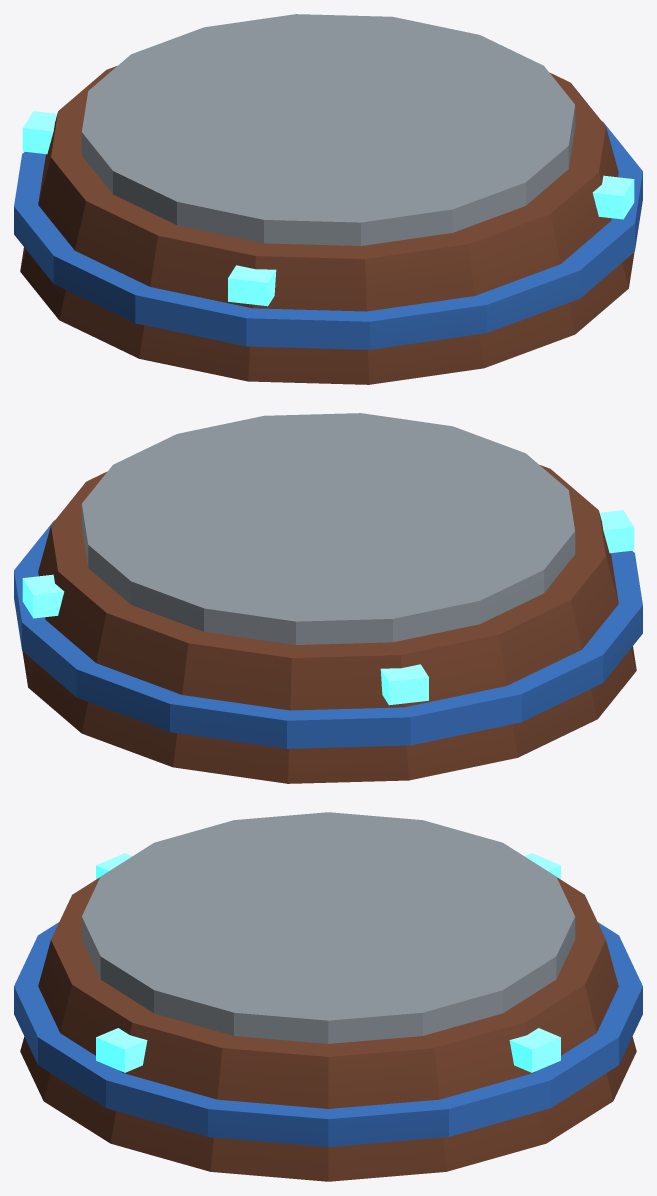
The model's file is zsupport_tourelle.glb.
3 views of the same model, one above another, from view 1: azimuth 30°, elevation 25°; view 2: azimuth 150°, elevation 25°; view 3: azimuth 270°, elevation 25° (orthographic).
Parts seen in each view (by area): view 1: zsupport_tourelle; view 2: zsupport_tourelle; view 3: zsupport_tourelle.
Part boxes in pixels (bbox=[...]): zsupport_tourelle: bbox=[14, 14, 642, 384]; zsupport_tourelle: bbox=[14, 413, 642, 783]; zsupport_tourelle: bbox=[14, 812, 642, 1181].
Size of the model in its own units: 0.612 by 0.145 by 0.612.
